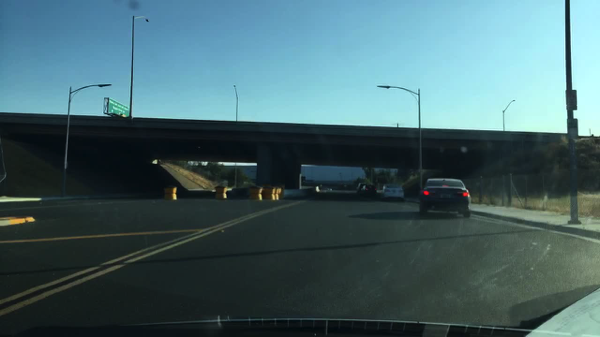car: (417, 178, 474, 220), (381, 183, 407, 202), (359, 184, 378, 196), (353, 182, 367, 191)
traffic sign: (103, 96, 132, 119), (565, 119, 579, 140), (565, 90, 578, 112)
